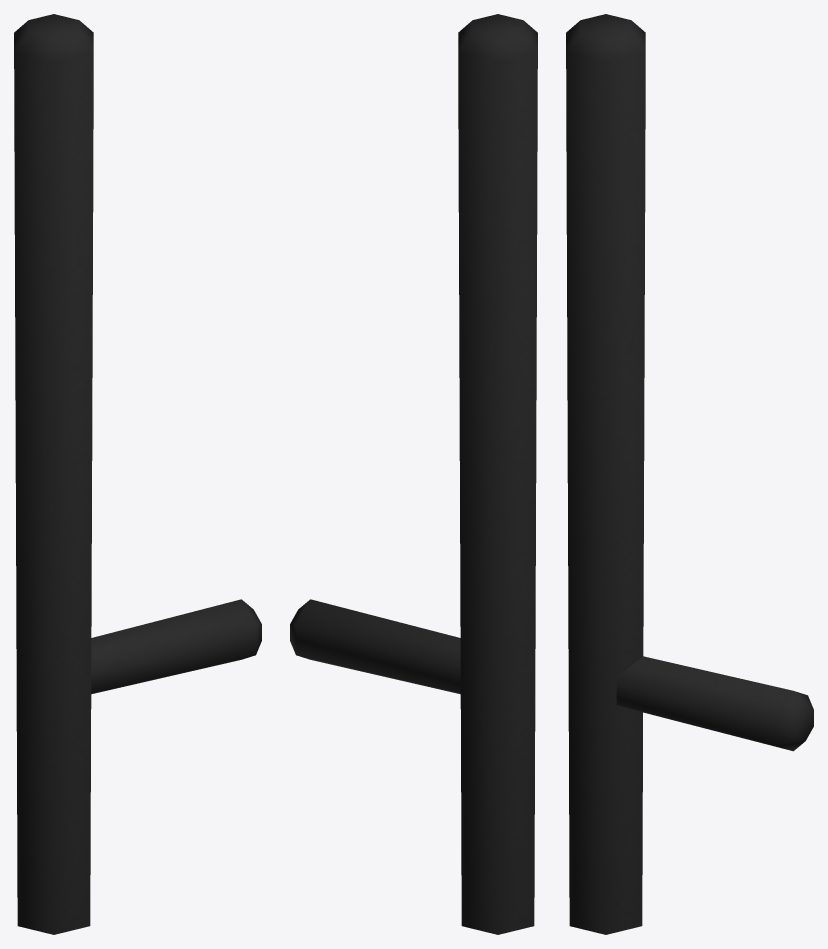
The model's file is Truncheon.fbx.
The picture shows the model from 3 angles, left to right: view 1: azimuth 30°, elevation 25°; view 2: azimuth 150°, elevation 25°; view 3: azimuth 330°, elevation 25°; orthographic projection.
Parts seen in each view (by area): view 1: Truncheon; view 2: Truncheon; view 3: Truncheon.
Boxes of the visible parts, x1,y1,x2,y2 form: Truncheon: (14,14,261,934); Truncheon: (290,14,537,934); Truncheon: (566,14,813,934).
Bounding box in the file's own units: 16.71 × 4.81 × 59.34.
